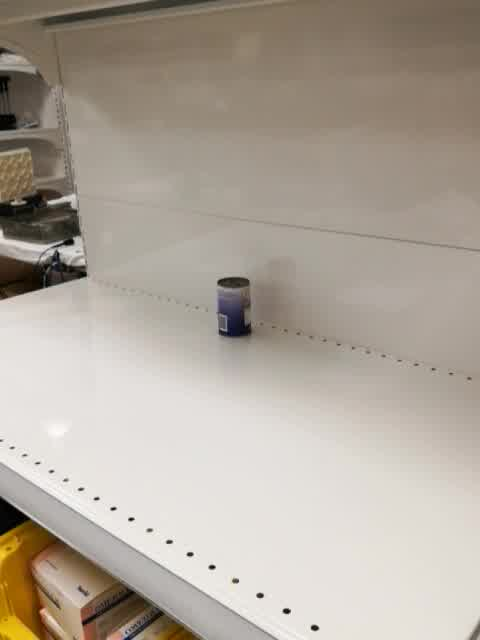sardine: (215, 275, 253, 339)
